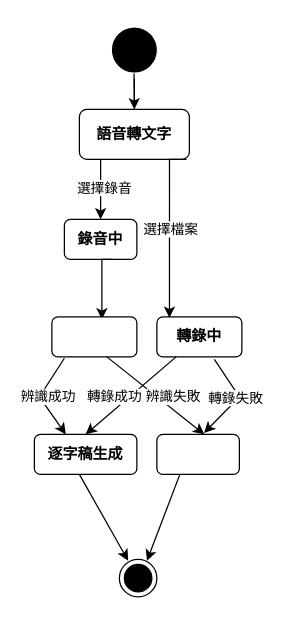
Some shapes in this 285 by 619 pixel diagram are drawn without their labels. The shapes that lost their labels are listed below. From the top down, each one's centre as x and y in pixels, then its label:
At point 94,336: "辨識中".
At point 197,453: "錯誤".
